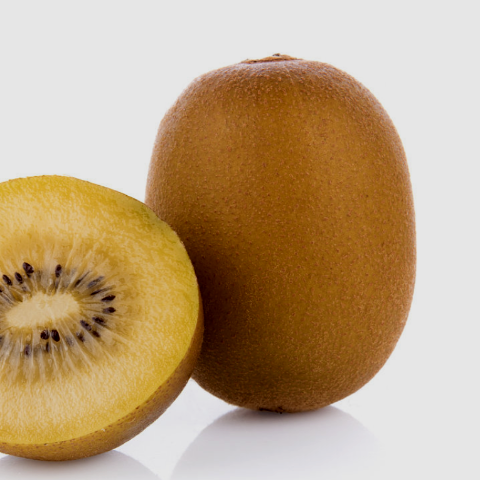kiwi: (99, 39, 468, 454)
